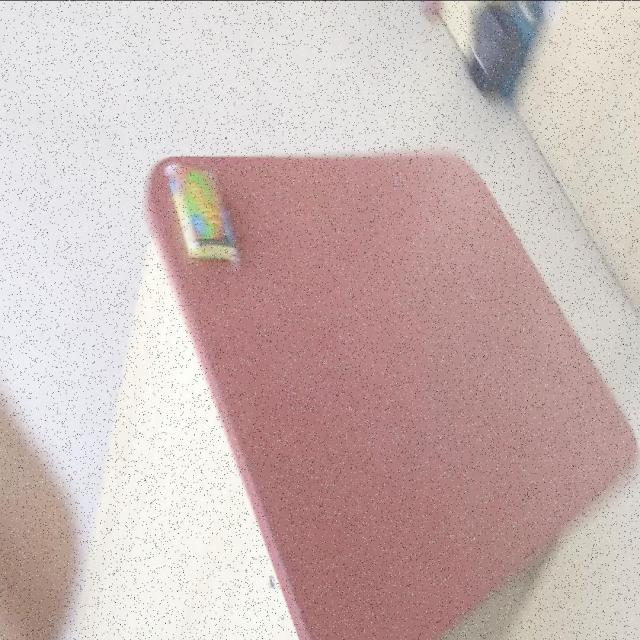Sponge: (73, 148, 637, 640), (163, 162, 240, 266)
